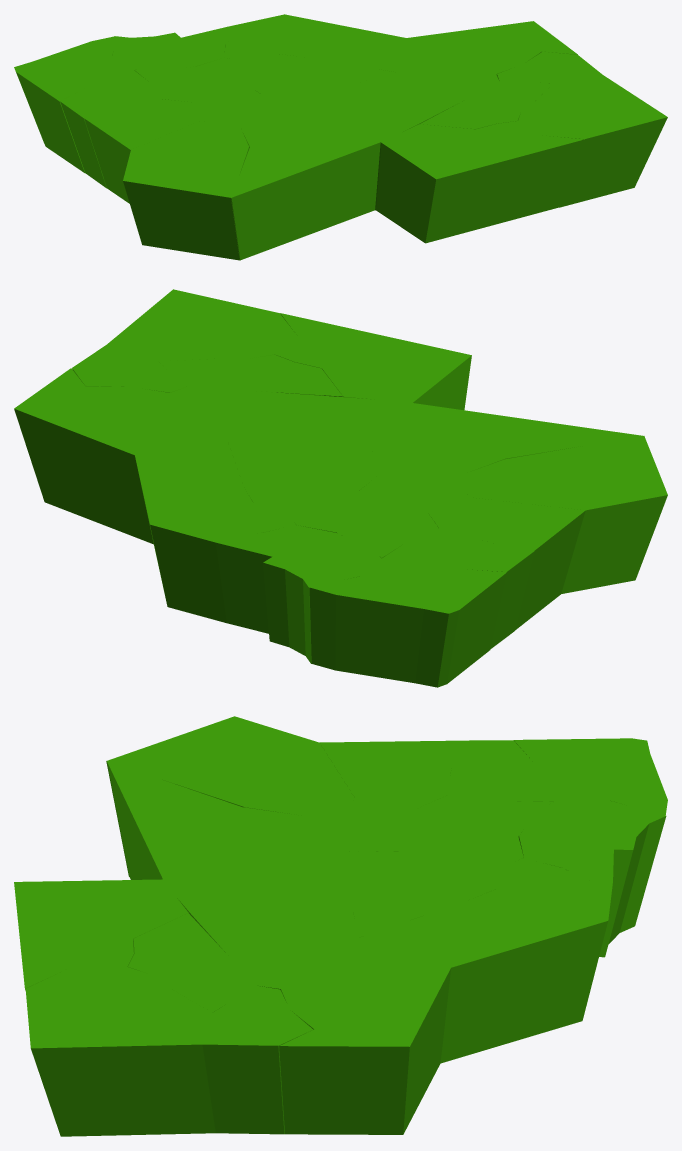
The model's file is Mapa01.fbx.
3 views of the same model, one above another, from view 1: azimuth 30°, elevation 25°; view 2: azimuth 150°, elevation 25°; view 3: azimuth 270°, elevation 25° (orthographic). The views are drawn at different scales.
Parts seen in each view (by area): view 1: polySurface3, polySurface5, polySurface14, polySurface1, polySurface8, polySurface6, polySurface15, polySurface11, polySurface9, polySurface13, polySurface7, polySurface12 (+3 smaller); view 2: polySurface8, polySurface11, polySurface14, polySurface9, polySurface10, polySurface5, polySurface6, polySurface3, polySurface1, polySurface15, polySurface13, polySurface7 (+3 smaller); view 3: polySurface8, polySurface1, polySurface9, polySurface5, polySurface14, polySurface6, polySurface15, polySurface3, polySurface10, polySurface2, polySurface7, polySurface11 (+3 smaller).
Boxes of the visible parts, x1,y1,x2,y2 form: polySurface3: (376, 124, 584, 243); polySurface5: (231, 104, 380, 260); polySurface14: (123, 119, 249, 260); polySurface1: (475, 74, 667, 207); polySurface8: (312, 21, 577, 74); polySurface6: (315, 72, 499, 210); polySurface15: (134, 54, 310, 121); polySurface11: (14, 36, 133, 172); polySurface9: (224, 14, 405, 60); polySurface13: (84, 99, 197, 203); polySurface7: (255, 58, 395, 110); polySurface12: (60, 70, 160, 188); polySurface8: (14, 368, 243, 544); polySurface11: (309, 558, 506, 687); polySurface14: (443, 436, 667, 593); polySurface9: (135, 455, 295, 623); polySurface10: (216, 525, 381, 663); polySurface5: (373, 403, 643, 481); polySurface6: (171, 386, 413, 451); polySurface3: (280, 313, 471, 410); polySurface1: (107, 289, 321, 395); polySurface15: (243, 473, 472, 558); polySurface13: (428, 497, 585, 629); polySurface7: (227, 439, 380, 491); polySurface8: (279, 903, 460, 1134); polySurface1: (25, 938, 215, 1136); polySurface9: (435, 858, 612, 1063); polySurface5: (107, 761, 349, 879); polySurface14: (106, 716, 354, 876); polySurface6: (161, 867, 358, 1011); polySurface15: (335, 795, 552, 903); polySurface3: (14, 879, 188, 996); polySurface10: (518, 800, 666, 957); polySurface2: (202, 985, 313, 1134); polySurface7: (304, 851, 460, 937); polySurface11: (513, 738, 667, 815).
Bounding box in the file's own units: 54.74 × 8.02 × 45.54.
